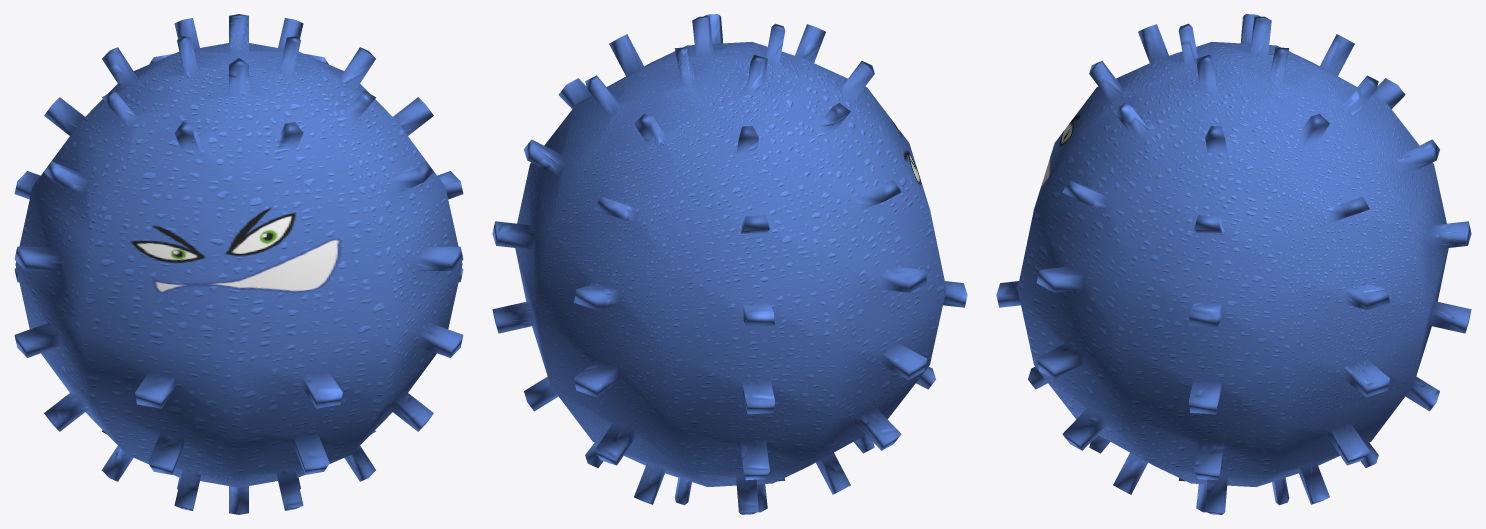
The model's file is Export_Tex_Virus_001 (3).fbx.
3 views of the same model, side by side, from view 1: azimuth 30°, elevation 25°; view 2: azimuth 150°, elevation 25°; view 3: azimuth 270°, elevation 25° (orthographic).
Parts seen in each view (by area): view 1: pSphere1; view 2: pSphere1; view 3: pSphere1.
Boxes of the visible parts, <box> form: pSphere1: <box>14,14,463,514</box>; pSphere1: <box>492,14,967,514</box>; pSphere1: <box>996,14,1471,514</box>.
Bounding box in the file's own units: 5.71 × 6.03 × 5.71.
Materials: 1 (1 with a texture image).
